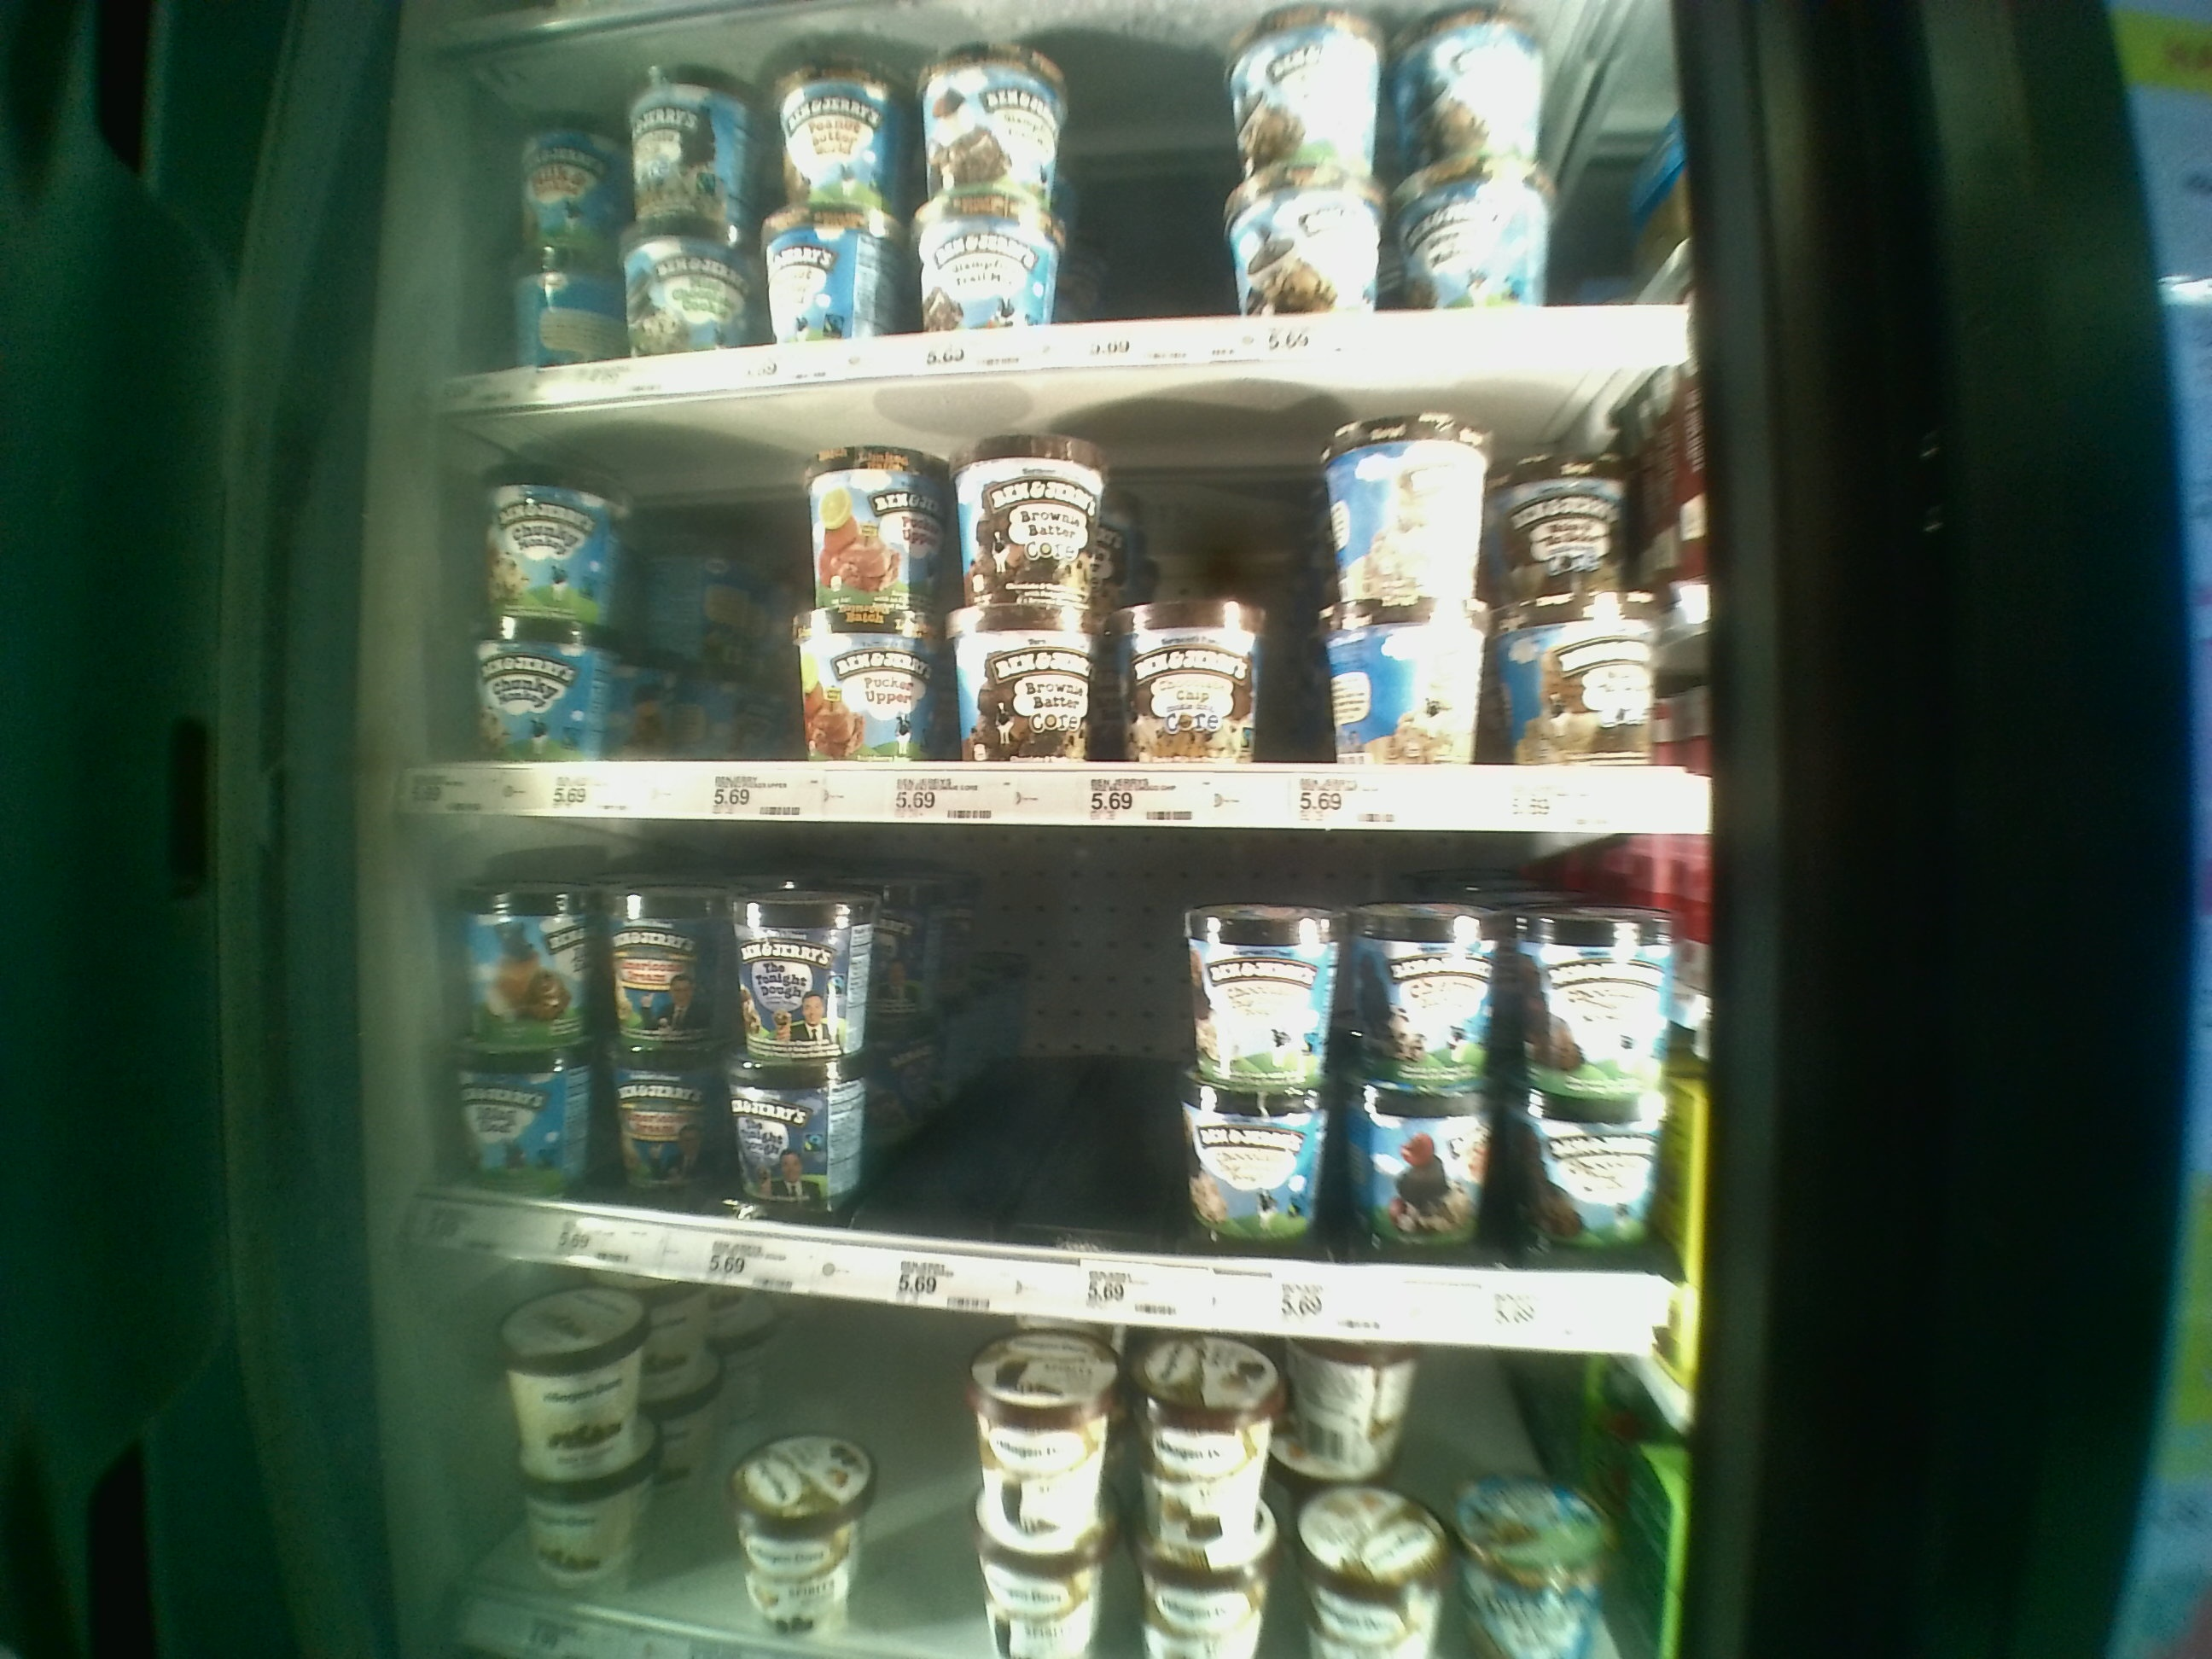shelf: (435, 824, 1714, 1361), (428, 403, 1714, 819)
